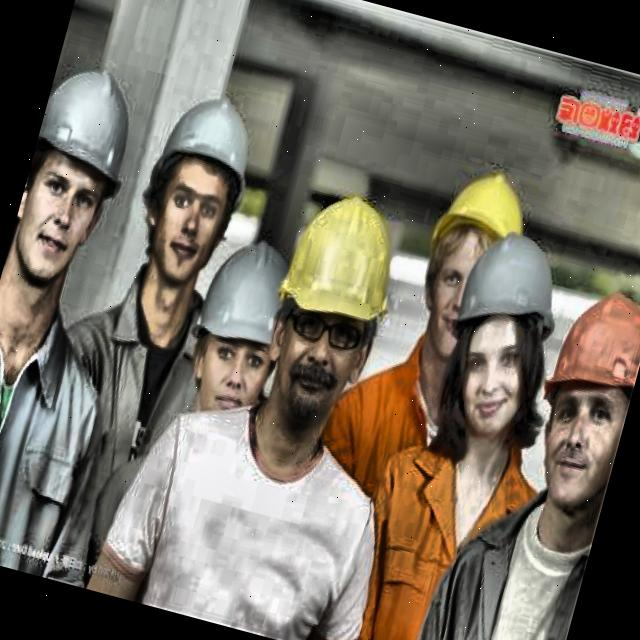helmet: (247, 182, 412, 436), (0, 56, 147, 308), (424, 220, 576, 454), (513, 274, 640, 529), (120, 83, 268, 294), (166, 226, 304, 434), (403, 160, 537, 370)
